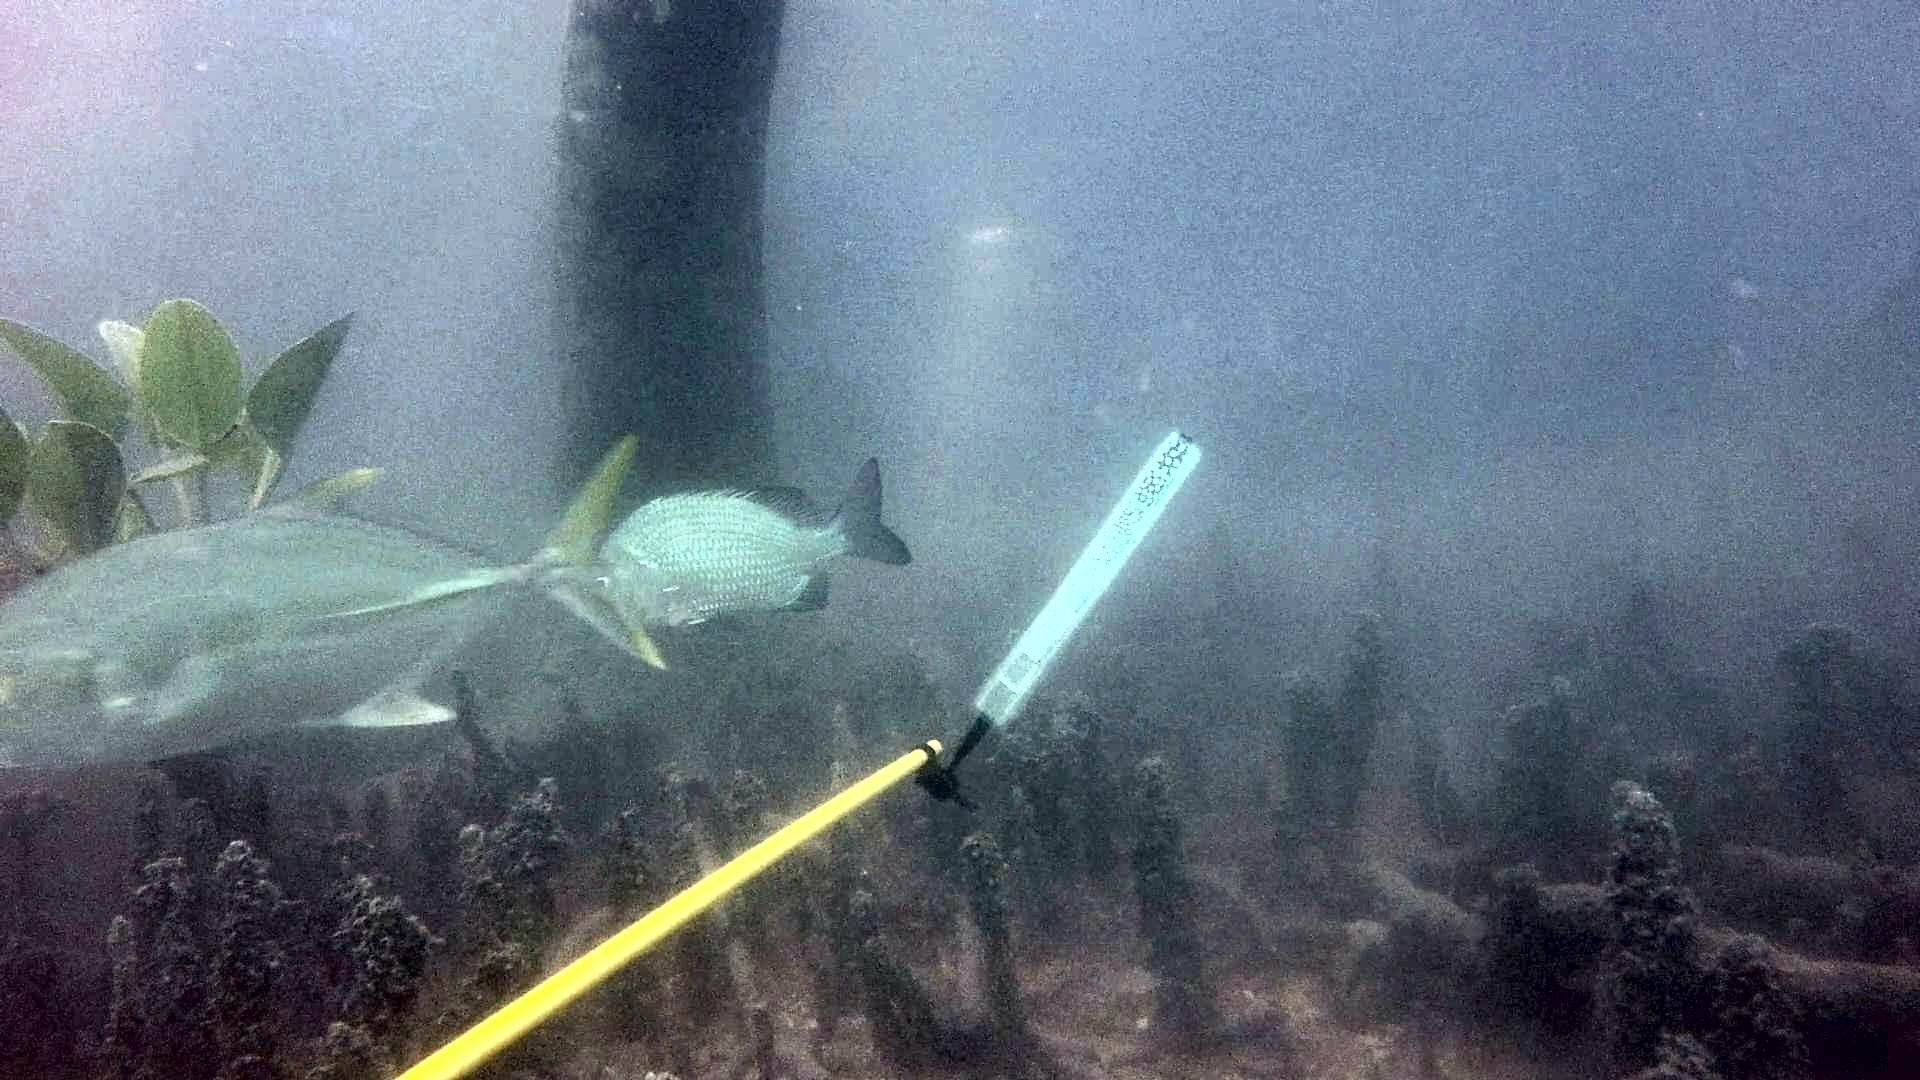acanthopagrus palmaris: (609, 446, 923, 646)
caranx: (0, 420, 681, 781)
